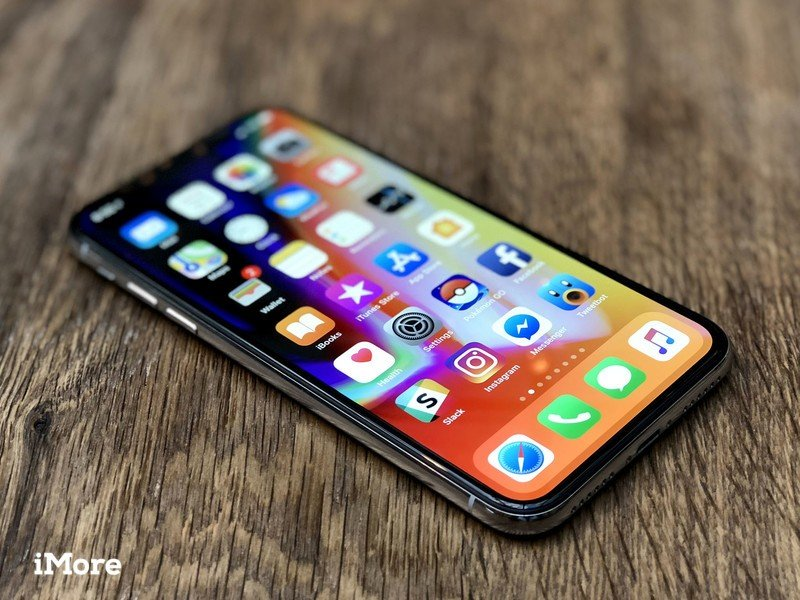Cell Phone: (69, 103, 731, 546)
